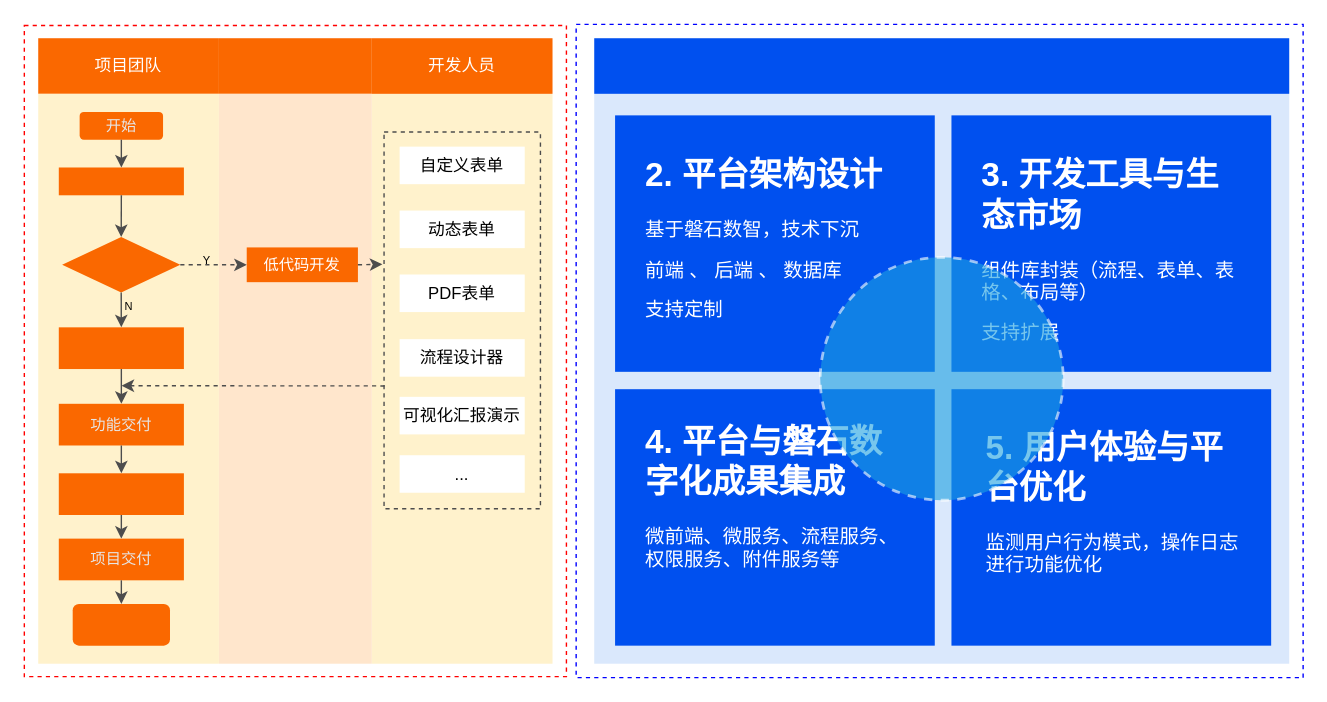
Image size: 1327x702. Some labels were removed from this diagram. Here are the shapes that lost their labels. From the top down, the centre of each, then its label:
(x=294, y=65): 业务人员
(x=941, y=65): 低代码开发平台研究内容
(x=120, y=181): 需求分析
(x=120, y=264): 低代码业务
(x=120, y=347): 源码编程
(x=941, y=378): 1. 业务边界
(x=120, y=493): 项目测试
(x=120, y=624): 结束
